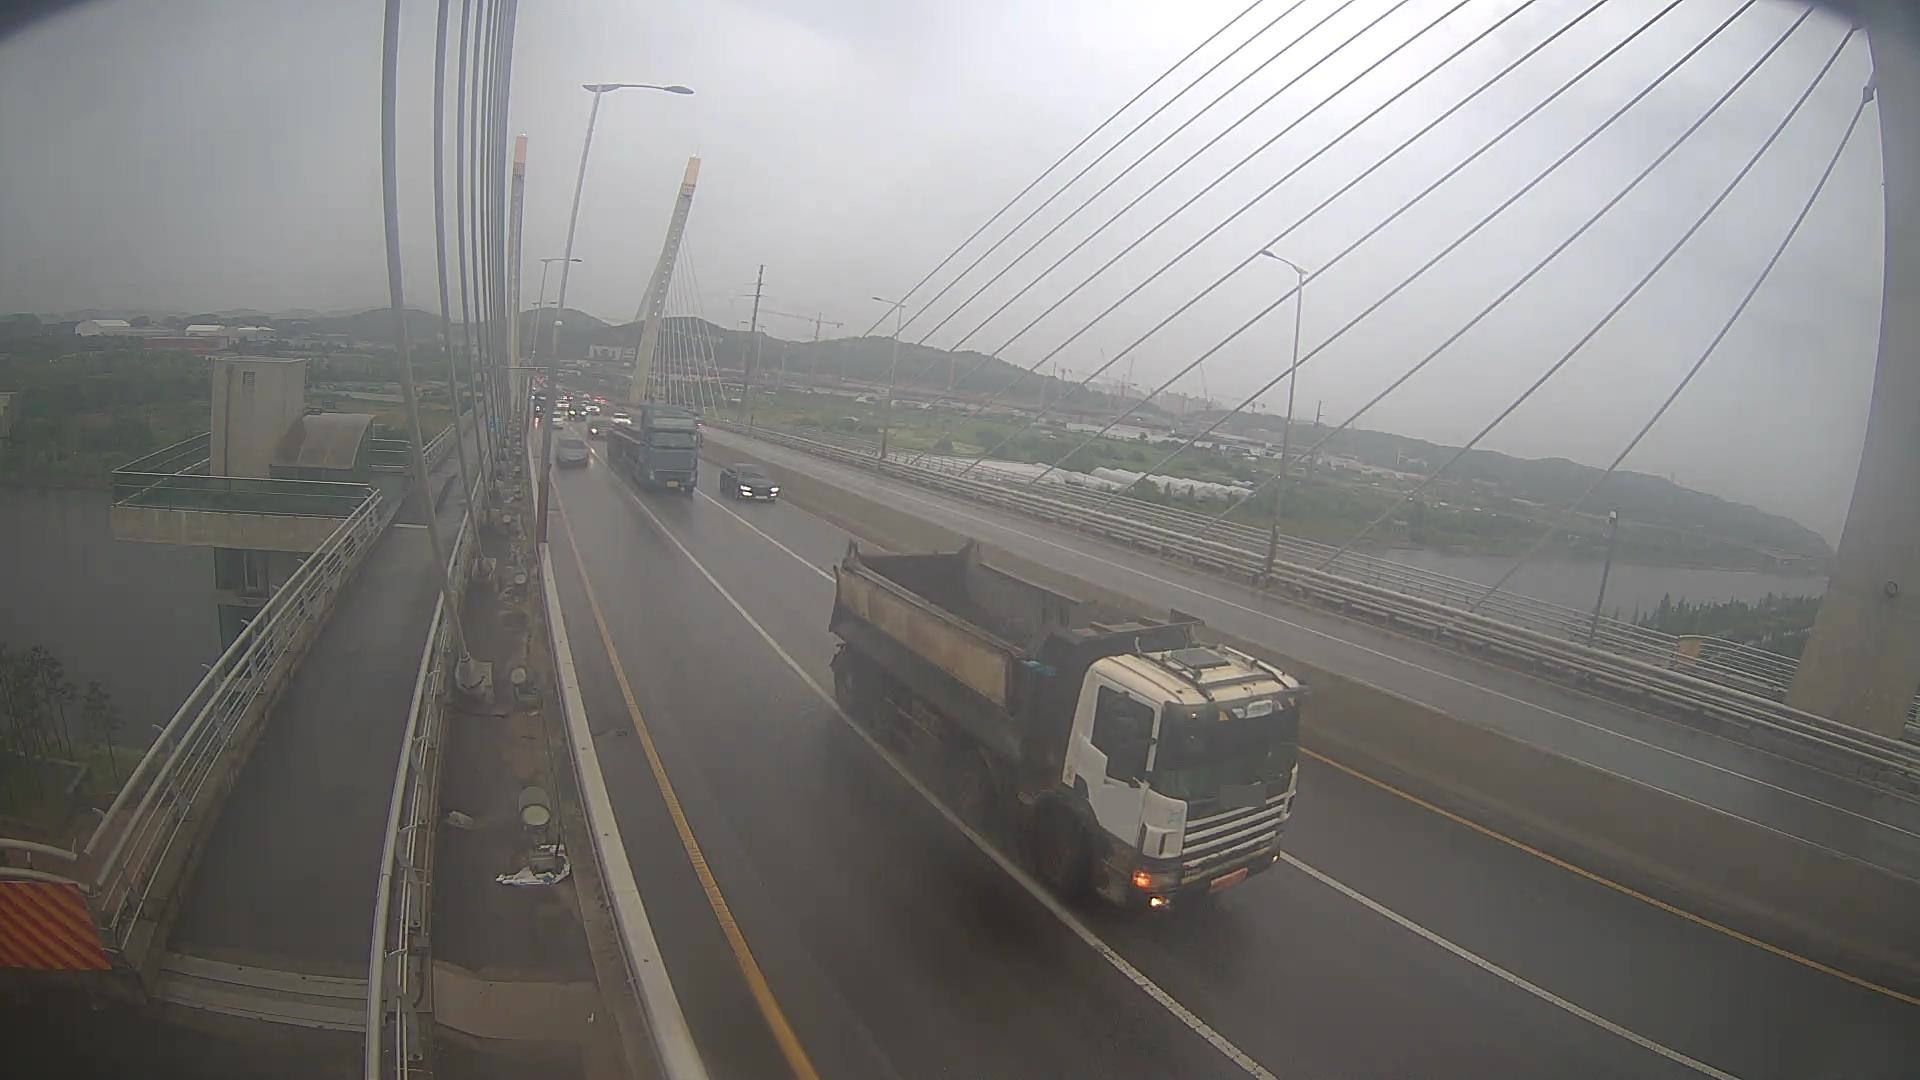정상차량: (827, 537, 1315, 918)
